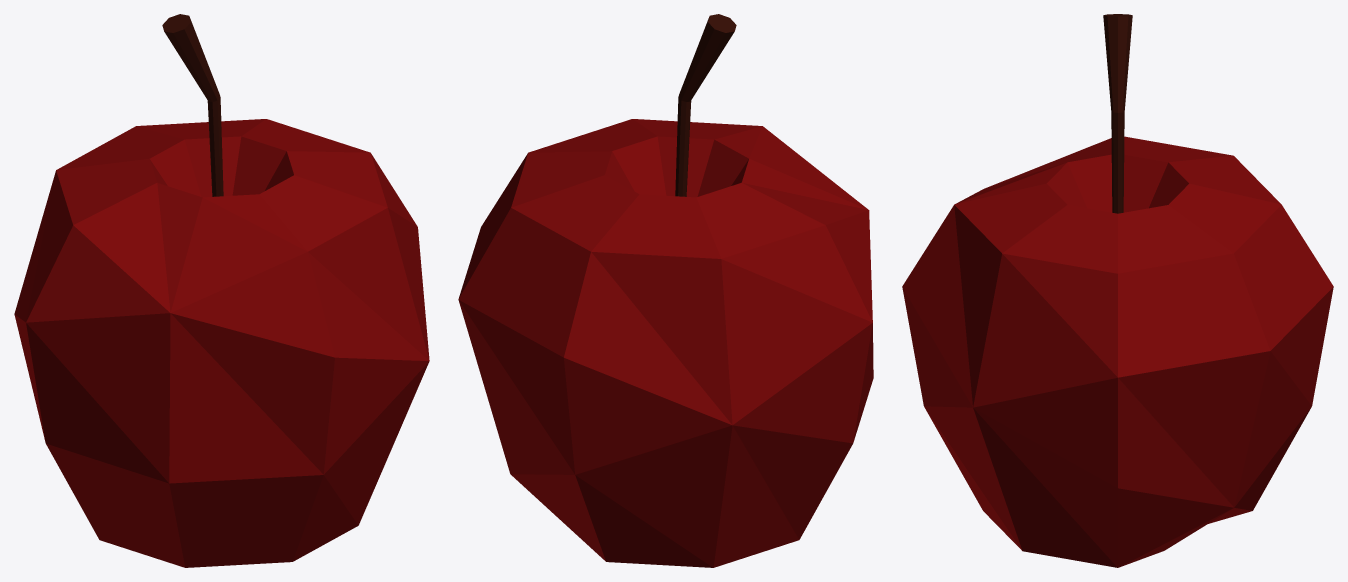
The model's file is Apple.FBX.
The picture shows the model from 3 angles, left to right: view 1: azimuth 30°, elevation 25°; view 2: azimuth 150°, elevation 25°; view 3: azimuth 270°, elevation 25°; orthographic projection. The views are drawn at different scales.
Parts seen in each view (by area): view 1: Apple; view 2: Apple; view 3: Apple.
Part boxes in pixels (bbox=[...]): Apple: bbox=[14, 14, 429, 567]; Apple: bbox=[458, 14, 873, 567]; Apple: bbox=[902, 14, 1333, 567].
Size of the model in its own units: 0.1216 by 0.1216 by 0.1553.
